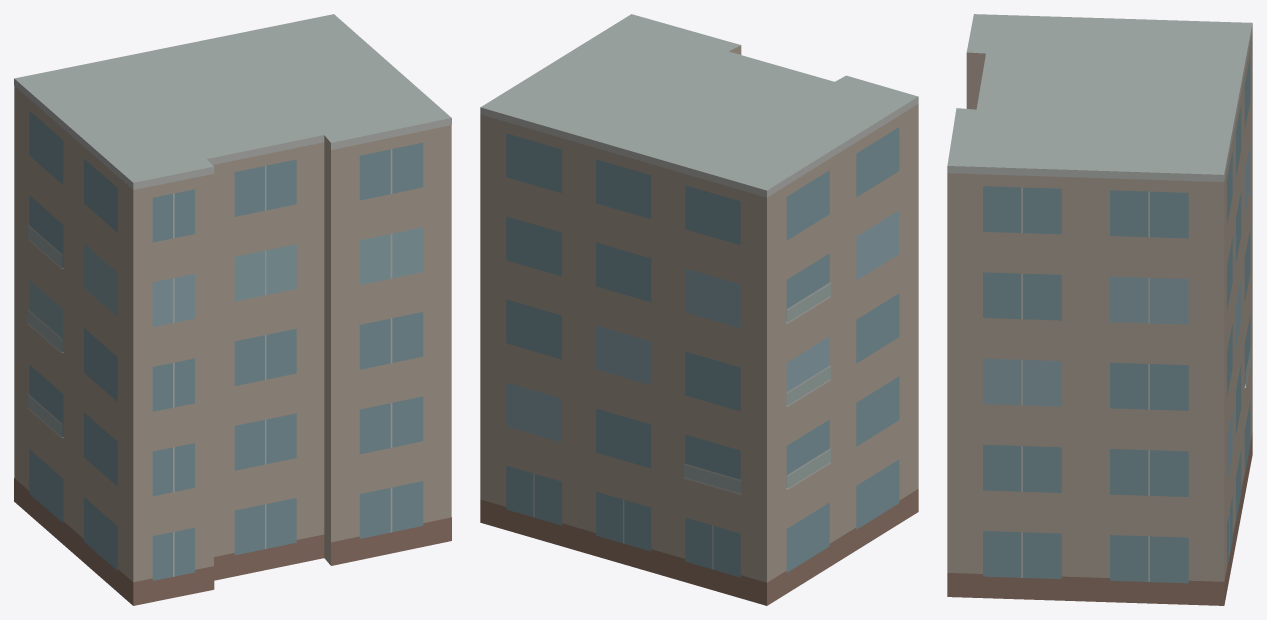
File: survey-upis-32878140.glb
3 renders of one model, left to right at view 1: azimuth 30°, elevation 25°; view 2: azimuth 150°, elevation 25°; view 3: azimuth 270°, elevation 25°, orthographic. The views are drawn at different scales.
Visible parts, largest first — view 1: survey-upis-32878140.tmp; view 2: survey-upis-32878140.tmp; view 3: survey-upis-32878140.tmp.
Boxes of the visible parts, x1,y1,x2,y2 form: survey-upis-32878140.tmp: (14,14,451,605); survey-upis-32878140.tmp: (480,14,918,605); survey-upis-32878140.tmp: (947,14,1252,605).
Bounding box in the file's own units: 11.54 × 14.4 × 9.25.
